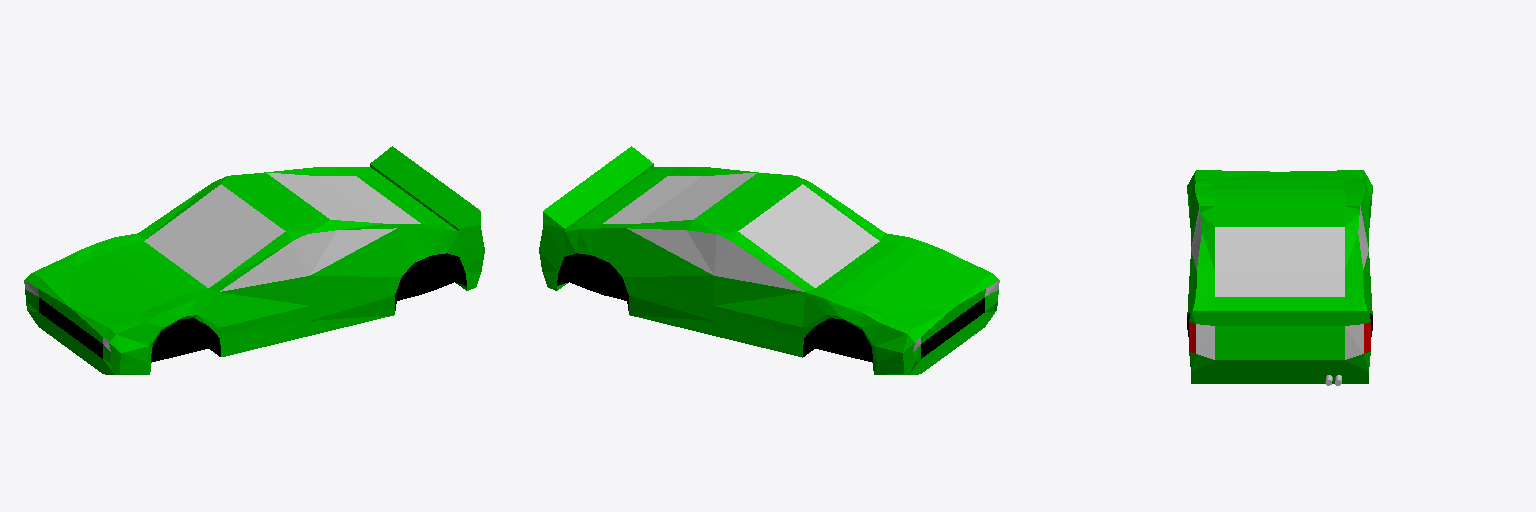
File: car_037.obj
The picture shows the model from 3 angles: view 1: azimuth 30°, elevation 25°; view 2: azimuth 150°, elevation 25°; view 3: azimuth 270°, elevation 25°; orthographic projection.
Parts seen in each view (by area): view 1: Cube; view 2: Cube; view 3: Cube.
Boxes of the visible parts, box(x1,y1,x2,y2) form: Cube: box(24, 146, 484, 374); Cube: box(539, 146, 999, 374); Cube: box(1187, 170, 1372, 383).
Bounding box in the file's own units: 10.05 × 2.52 × 4.28.